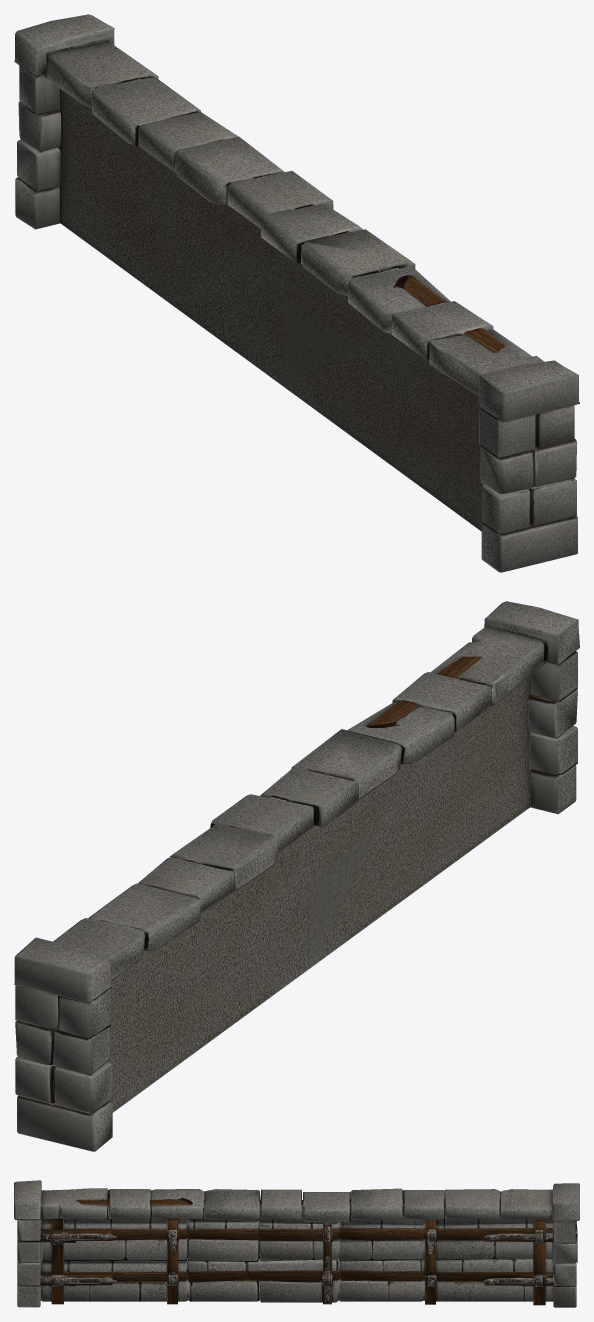
File: tripo_convert_482b83bb-5ee8-4ee2-922e-faa64abda184.fbx
3 renders of one model, top to bottom at view 1: azimuth 30°, elevation 25°; view 2: azimuth 150°, elevation 25°; view 3: azimuth 270°, elevation 25°, orthographic. The views are drawn at different scales.
Parts seen in each view (by area): view 1: tripo_node_482b83bb; view 2: tripo_node_482b83bb; view 3: tripo_node_482b83bb.
Part boxes in pixels (box(x1,y1,x2,y2)): tripo_node_482b83bb: box(14, 14, 579, 572); tripo_node_482b83bb: box(14, 601, 579, 1151); tripo_node_482b83bb: box(14, 1180, 579, 1307).
Size of the model in its own units: 0.0996 by 0.2051 by 0.998.
Materials: 1 (1 with a texture image).
